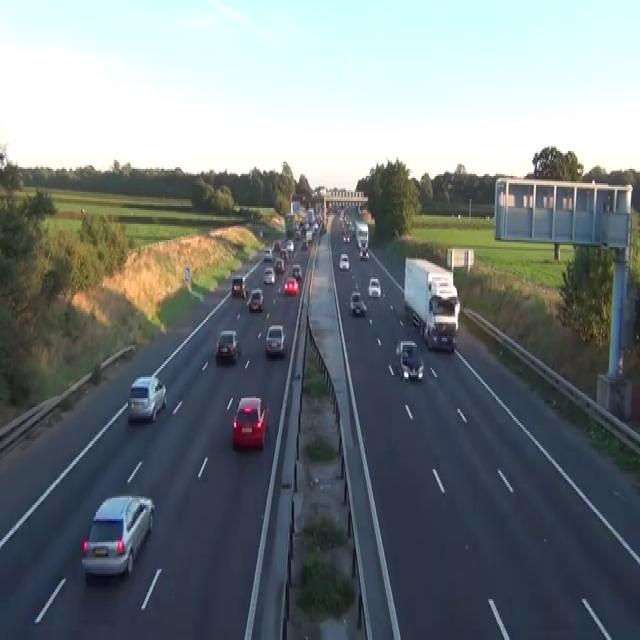Car: (81, 494, 155, 580), (232, 394, 268, 450), (127, 375, 166, 421), (395, 340, 423, 380), (214, 329, 240, 363), (426, 322, 455, 352), (265, 324, 286, 356), (349, 290, 366, 314), (246, 288, 263, 311), (231, 275, 246, 297), (282, 276, 298, 295), (367, 277, 381, 297), (263, 266, 275, 284), (339, 252, 349, 270), (291, 263, 302, 279), (274, 256, 284, 272), (359, 247, 369, 260), (412, 311, 420, 327), (263, 247, 272, 261), (0, 149, 6, 169), (286, 238, 294, 251), (359, 238, 368, 249), (280, 247, 287, 260), (300, 240, 308, 251), (273, 240, 280, 251), (320, 222, 326, 233), (343, 234, 350, 242), (313, 222, 318, 230), (295, 230, 300, 238), (259, 230, 263, 237), (334, 242, 337, 249)
Truck: (403, 254, 460, 352), (354, 220, 368, 249), (284, 211, 295, 233)
